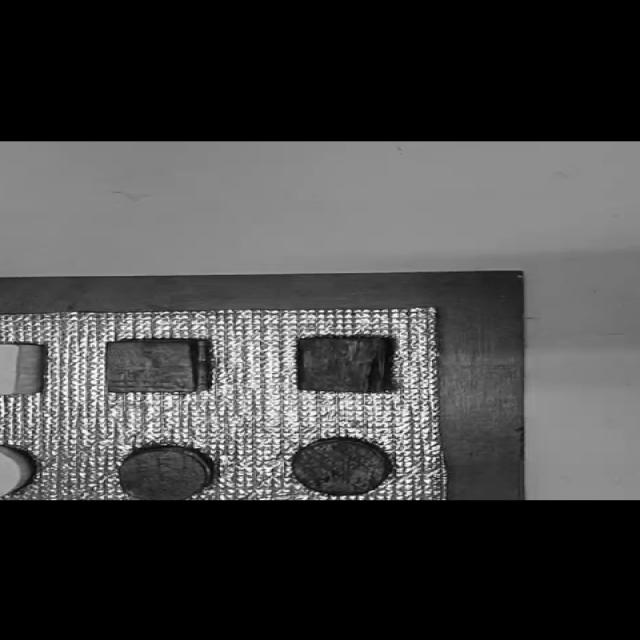bcube: (290, 436, 392, 496), (295, 336, 393, 392)
rcircle: (113, 440, 221, 499)
rcube: (105, 338, 210, 394)
wb: (0, 305, 450, 498)
ycircle: (0, 443, 40, 498)
ycube: (0, 342, 26, 392)
